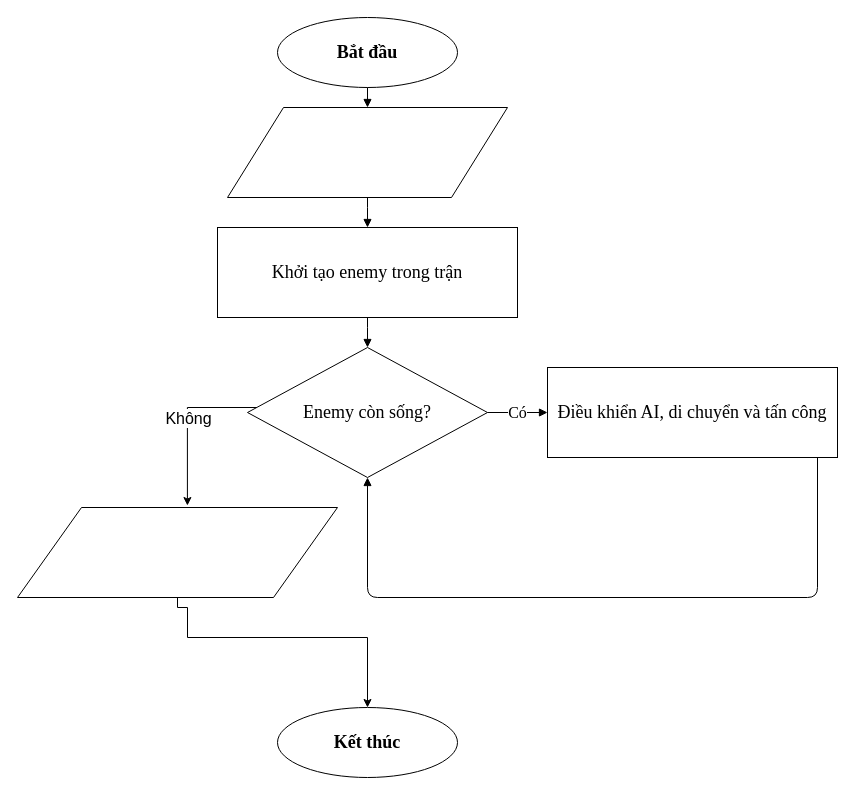
Image size: 855x795. Some labels were removed from this diagram. The shapes that lost their labels are listed below. From the top down, each one's box as (x1, y1, x2, y2) in pixels, then its label:
(226, 106, 508, 198): Nạp cấu hình enemy
(16, 506, 338, 598): Xuất EXP và cập nhật wave
